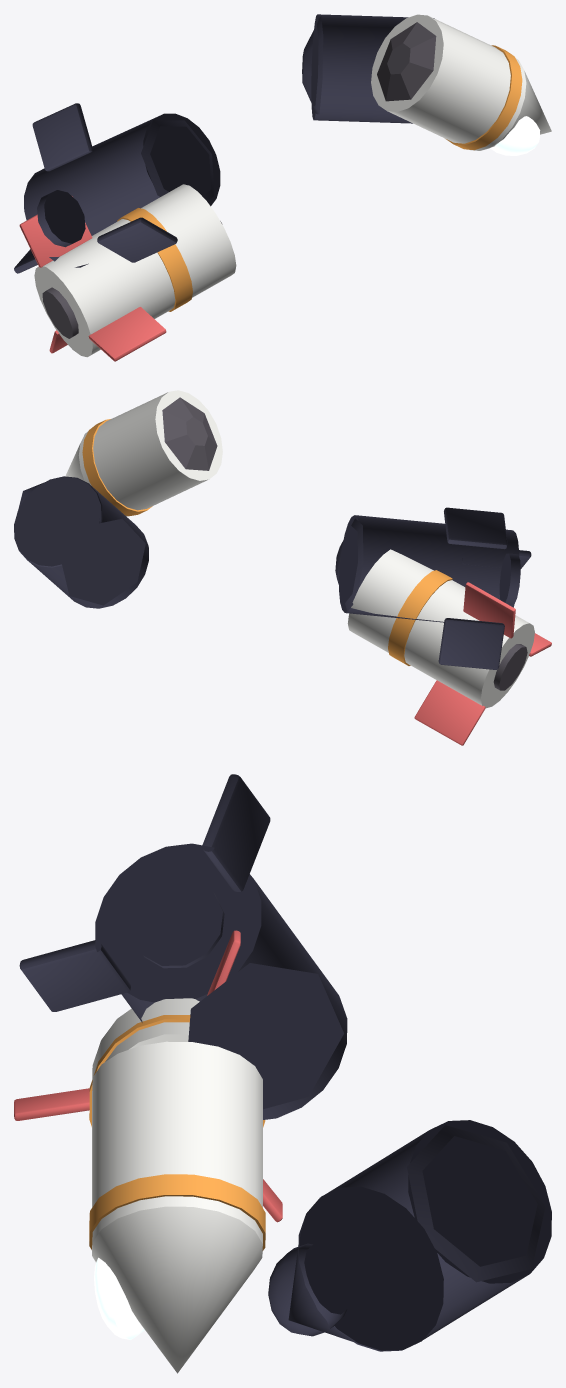
Rendered from Nave_Condor_Rota.fbx.
3 views of the same model, one above another, from view 1: azimuth 30°, elevation 25°; view 2: azimuth 150°, elevation 25°; view 3: azimuth 270°, elevation 25° (orthographic). The views are drawn at different scales.
Visible parts, largest first — view 1: Cola_Fuselaje, Cola_Fuselaje_Contorno, Proa_Fuselaje, Proa_Fuselaje_Contorno, Proa_Rotura, Cola_Aleta2_Contorno, Cola_Aleta0, Cola_Aleta0_Contorno, Cola_SinMotor_Contorno, Cola_Franja, Proa_Franja, Cola_Aleta2 (+5 smaller); view 2: Cola_Fuselaje, Proa_Fuselaje, Cola_Fuselaje_Contorno, Proa_Fuselaje_Contorno, Proa_Rotura_Contorno, Cola_Aleta1_Contorno, Proa_Rotura, Cola_Aleta1, Cola_Aleta2_Contorno, Cola_Franja, Cola_Aleta2, Proa_Franja (+3 smaller); view 3: Proa_Fuselaje, Cola_Fuselaje_Contorno, Proa_Nariz_Contorno, Proa_Fuselaje_Contorno, Proa_Nariz, Cola_Rotura_Contorno, Cola_Aleta0_Contorno, Proa_Rotura_Contorno, Cola_Aleta2_Contorno, Proa_Franja, Cola_Fuselaje, Proa_Cabina_Contorno (+4 smaller).
Part boxes in pixels (x1,y1,x2,y2): Cola_Fuselaje: (34, 184, 236, 357); Cola_Fuselaje_Contorno: (24, 113, 220, 267); Proa_Fuselaje: (371, 14, 526, 150); Proa_Fuselaje_Contorno: (311, 14, 434, 123); Proa_Rotura: (377, 22, 436, 101); Cola_Aleta2_Contorno: (32, 103, 92, 171); Cola_Aleta0: (88, 307, 166, 361); Cola_Aleta0_Contorno: (97, 217, 177, 262); Cola_SinMotor_Contorno: (37, 190, 85, 247); Cola_Franja: (117, 208, 192, 311); Proa_Franja: (446, 45, 522, 150); Cola_Aleta2: (19, 196, 92, 267); Cola_Fuselaje: (347, 549, 534, 708); Proa_Fuselaje: (78, 390, 222, 516); Cola_Fuselaje_Contorno: (339, 515, 519, 622); Proa_Fuselaje_Contorno: (14, 476, 148, 608); Proa_Rotura_Contorno: (61, 518, 145, 605); Cola_Aleta1_Contorno: (438, 618, 504, 669); Proa_Rotura: (162, 397, 217, 470); Cola_Aleta1: (414, 680, 485, 745); Cola_Aleta2_Contorno: (444, 507, 507, 549); Cola_Franja: (388, 570, 452, 665); Cola_Aleta2: (463, 582, 515, 638); Proa_Franja: (82, 419, 152, 516); Proa_Fuselaje: (92, 1041, 262, 1255); Cola_Fuselaje_Contorno: (95, 843, 347, 1119); Proa_Nariz_Contorno: (288, 1186, 443, 1350); Proa_Fuselaje_Contorno: (298, 1120, 551, 1351); Proa_Nariz: (92, 1206, 262, 1373); Cola_Rotura_Contorno: (188, 963, 343, 1109); Cola_Aleta0_Contorno: (19, 940, 130, 1011); Proa_Rotura_Contorno: (407, 1125, 545, 1282); Cola_Aleta2_Contorno: (202, 774, 270, 891); Proa_Franja: (89, 1174, 265, 1250); Cola_Fuselaje: (92, 998, 199, 1078); Proa_Cabina_Contorno: (268, 1243, 347, 1336).
Size of the model in its own units: 20.58 by 10.36 by 11.24.
